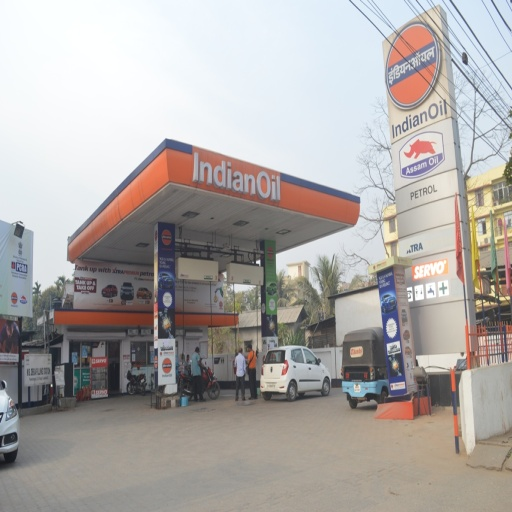roof: (65, 140, 359, 271)
